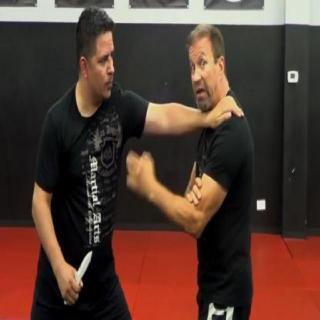knife: (62, 244, 94, 312)
